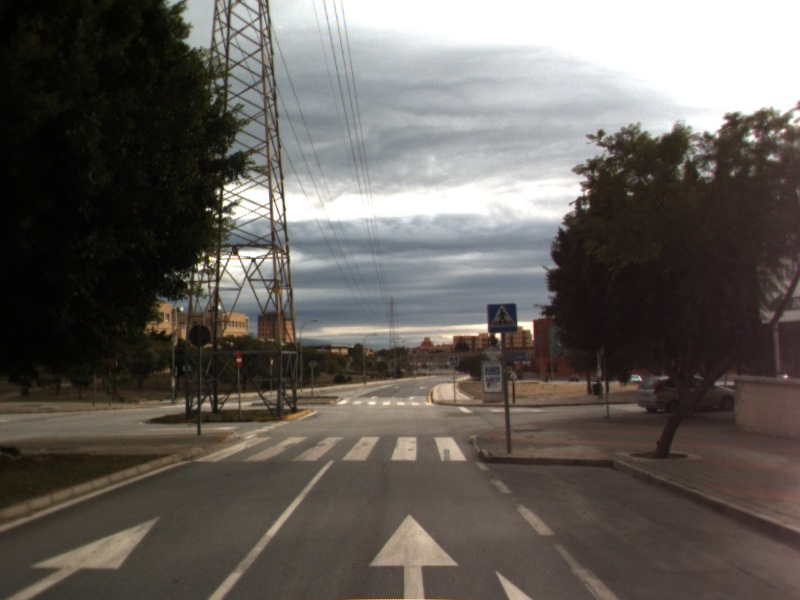STRAIGHT: (1, 511, 165, 600), (364, 510, 462, 600)
